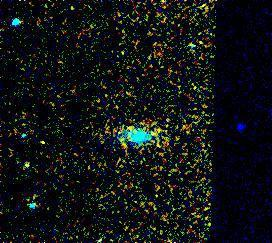star: (28, 125, 58, 155)
